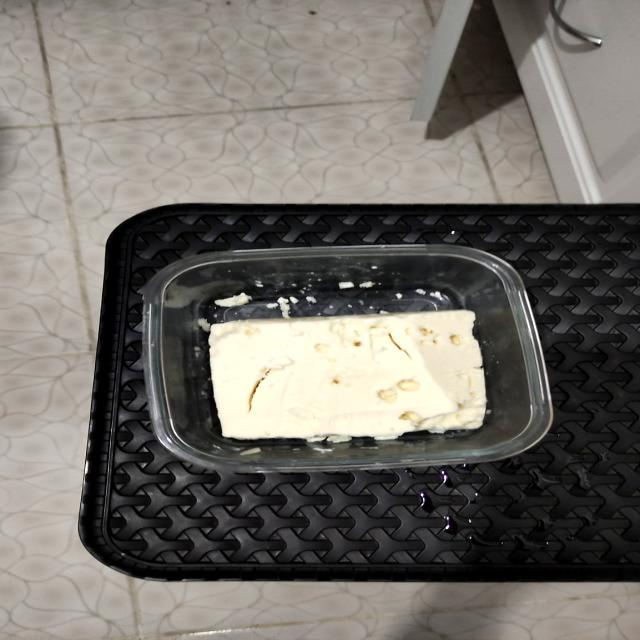cheese: (154, 255, 552, 469)
